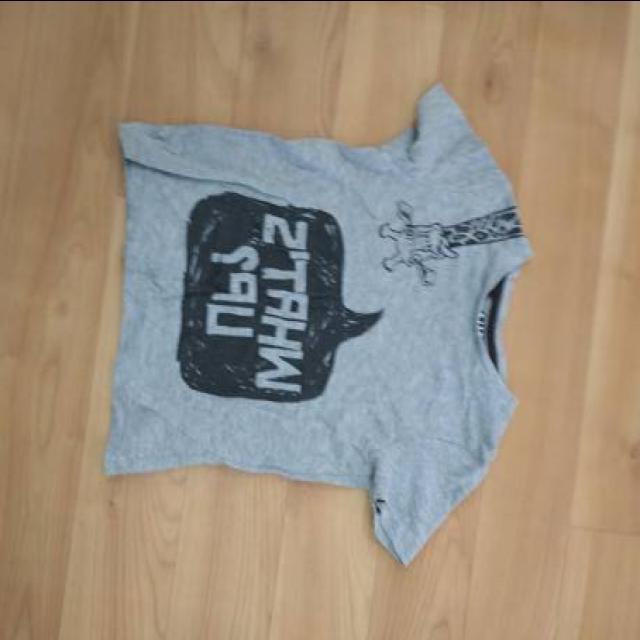non-organik: (84, 76, 546, 584)
